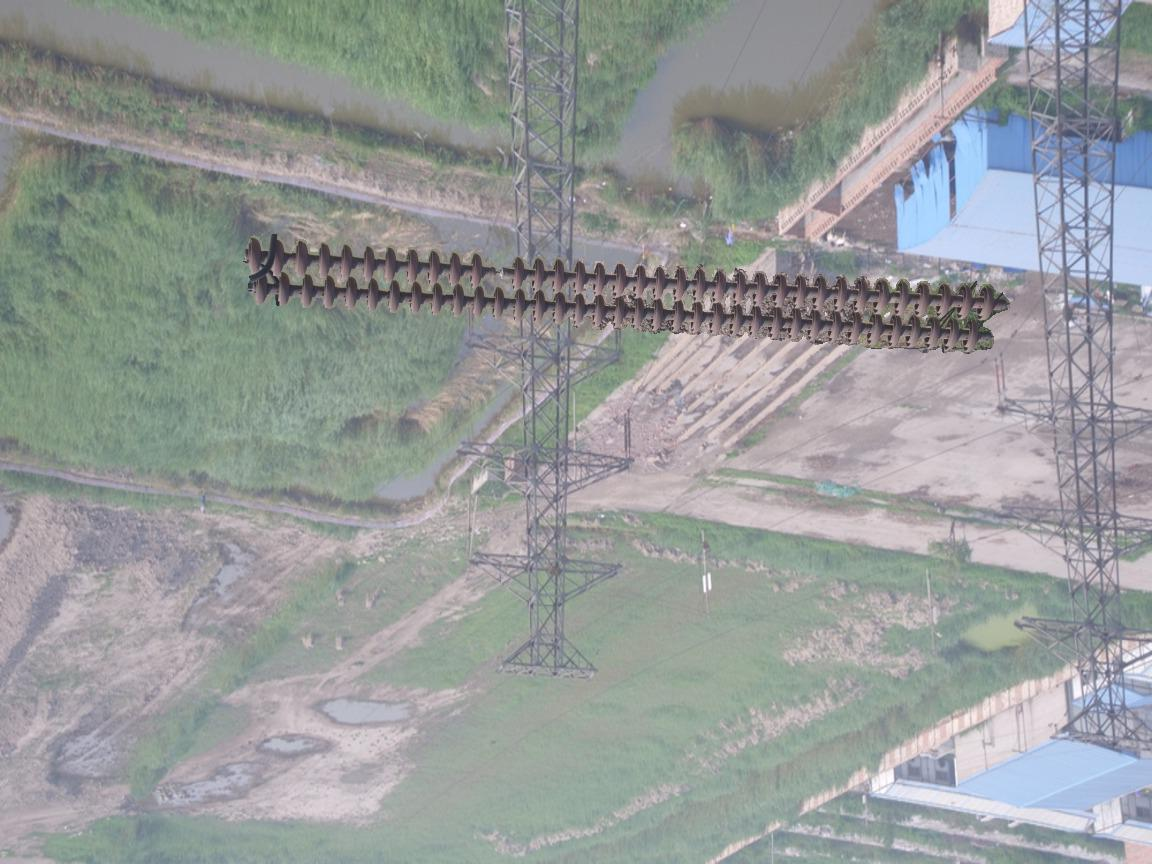insulator: (237, 232, 1006, 358)
insulator_stringdrop: (466, 251, 530, 292)
